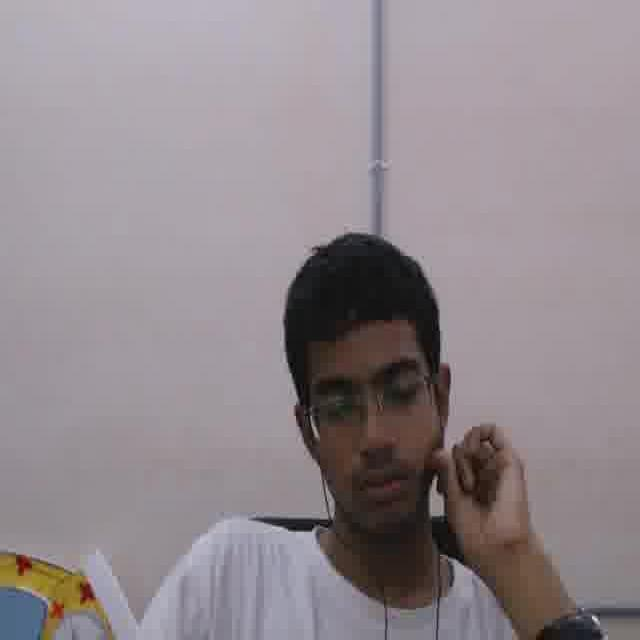Confusion: (299, 315, 436, 537)
